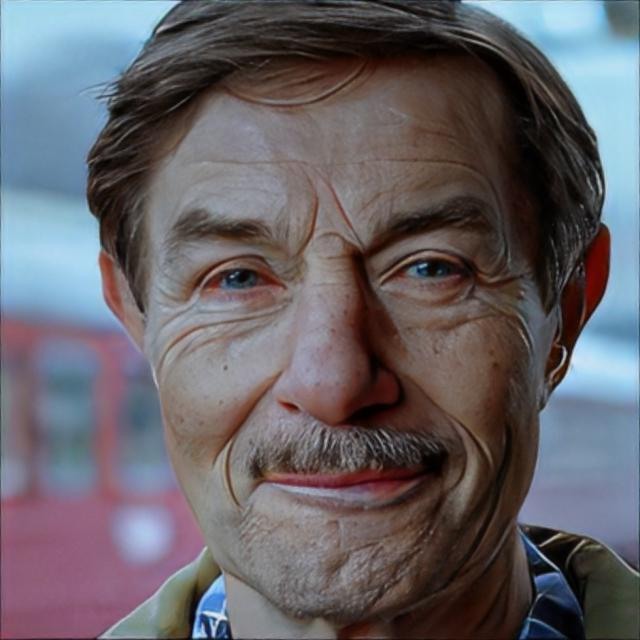content: (145, 53, 532, 618)
